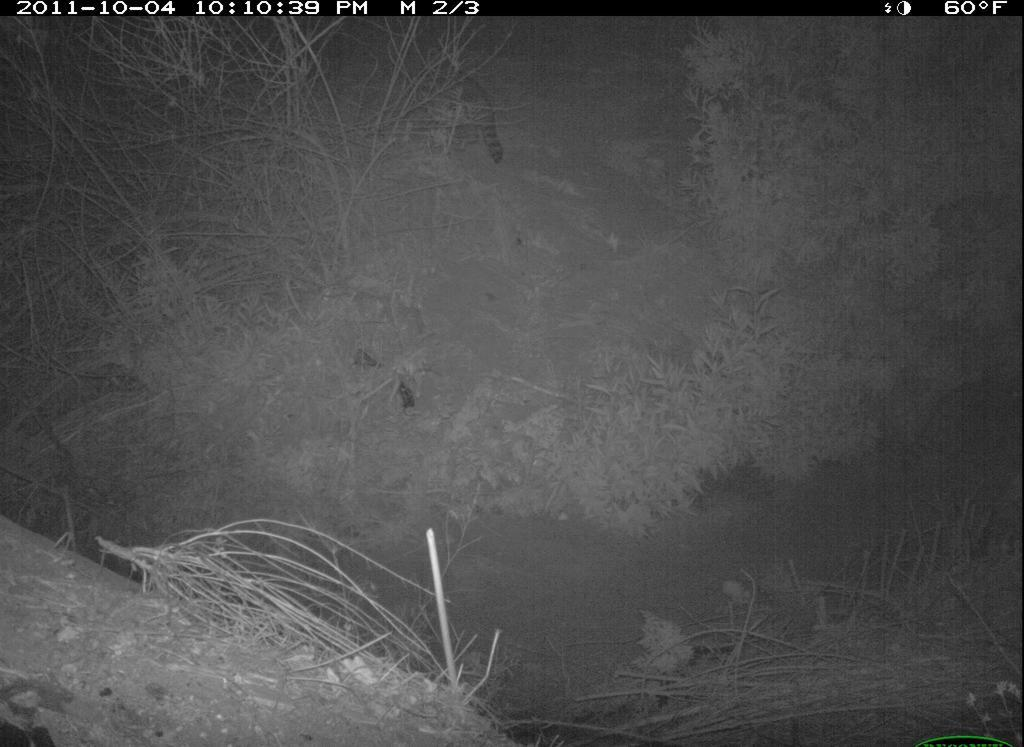raccoon: (413, 63, 516, 172)
